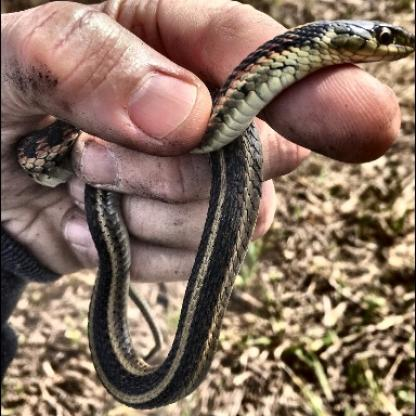Snake: (221, 12, 414, 93)
